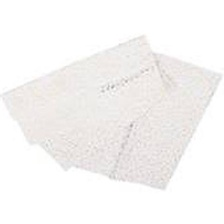tissue: (0, 29, 224, 197)
